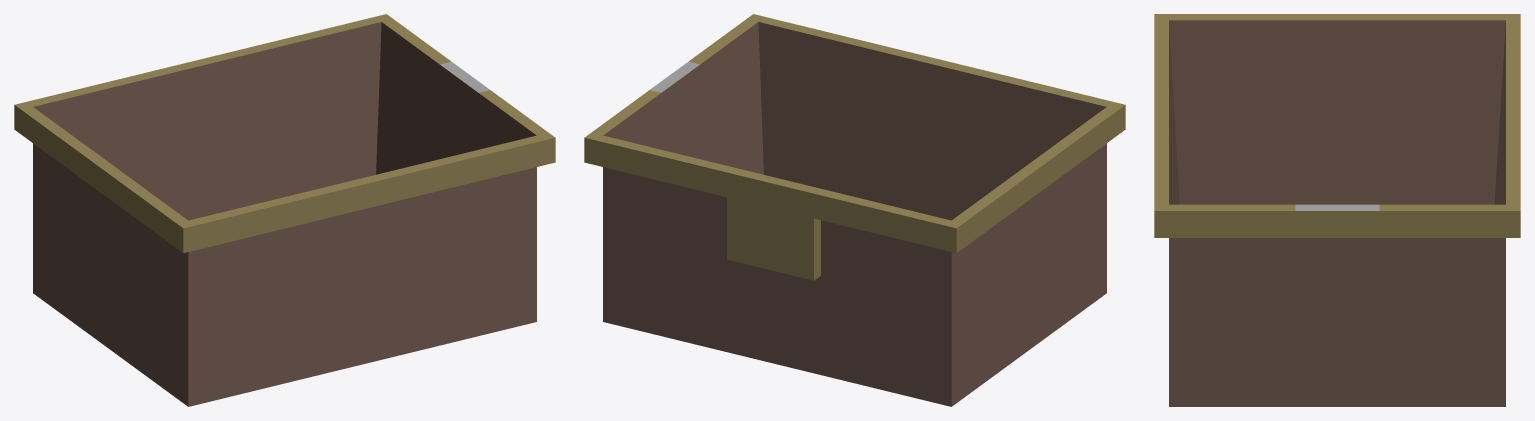
File: SQ_Object_Chest_Botom.fbx
3 views of the same model, side by side, from view 1: azimuth 30°, elevation 25°; view 2: azimuth 150°, elevation 25°; view 3: azimuth 270°, elevation 25° (orthographic). The views are drawn at different scales.
Visible parts, largest first — view 1: pCube1; view 2: pCube1; view 3: pCube1.
Boxes of the visible parts, x1,y1,x2,y2 form: pCube1: (14, 14, 555, 406); pCube1: (584, 14, 1125, 406); pCube1: (1154, 14, 1520, 406).
Bounding box in the file's own units: 6.28 × 3.01 × 4.94.
